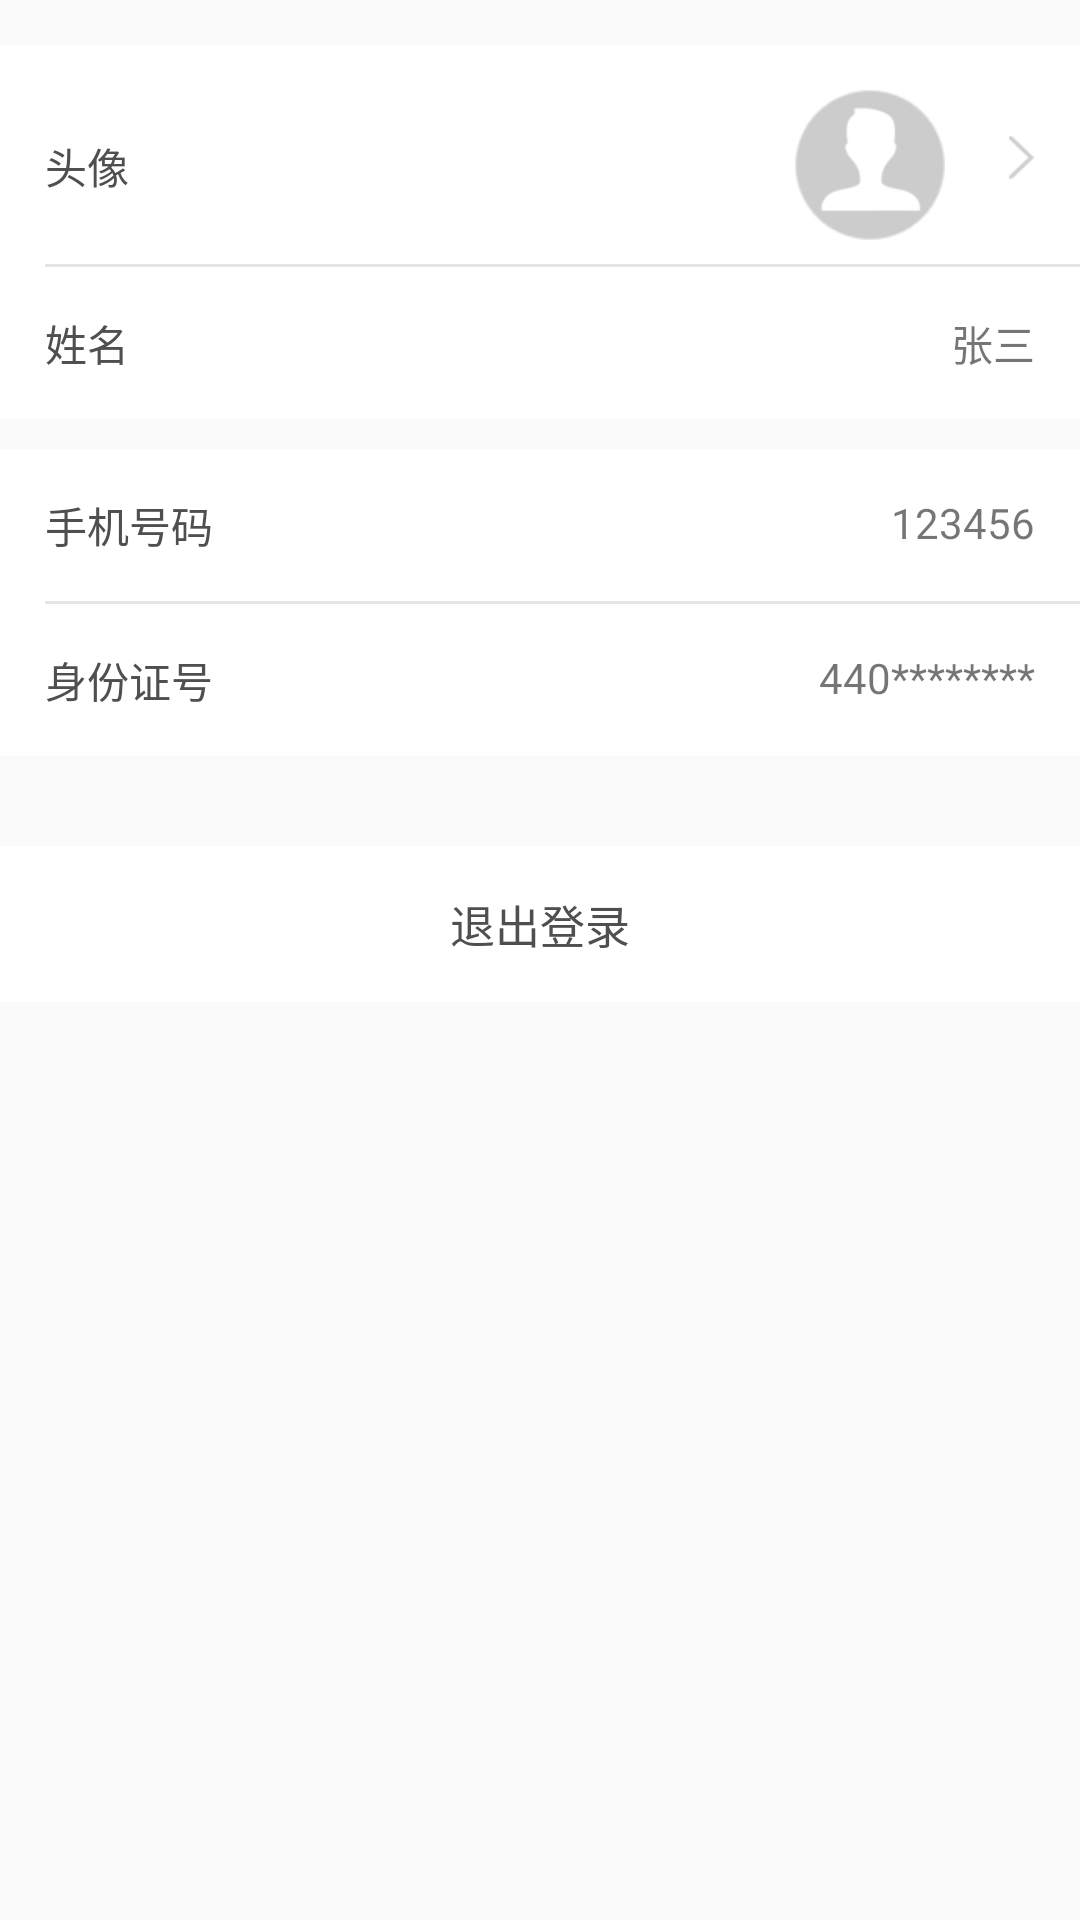

Named icons in this screenshot (1080×1920) and their bounding boxes, BBox(x1, y1, x2, y2):
arrow: BBox(1009, 136, 1033, 179)
mine pic touxiang: BBox(795, 90, 945, 240)
